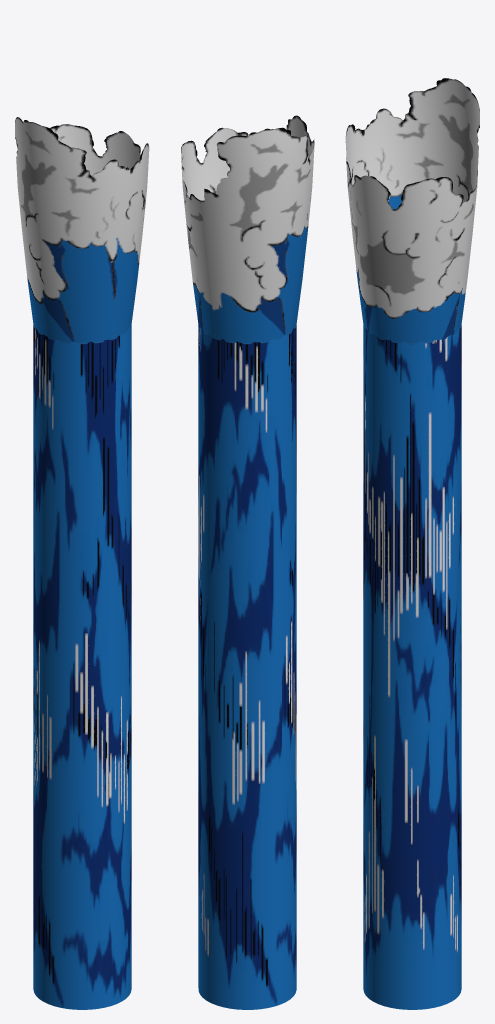
File: Water8_3.fbx
3 renders of one model, left to right at view 1: azimuth 90°, elevation 25°; view 2: azimuth 150°, elevation 25°; view 3: azimuth 270°, elevation 25°, orthographic.
Visible parts, largest first — view 1: SM_e_Skl_Wa_8Tak_Thin002; view 2: SM_e_Skl_Wa_8Tak_Thin002; view 3: SM_e_Skl_Wa_8Tak_Thin002.
Part boxes in pixels (x1,y1,x2,y2): SM_e_Skl_Wa_8Tak_Thin002: (15,117,149,1009); SM_e_Skl_Wa_8Tak_Thin002: (181,115,314,1009); SM_e_Skl_Wa_8Tak_Thin002: (345,78,479,1009).
Bounding box in the file's own units: 167 × 1263 × 164.
